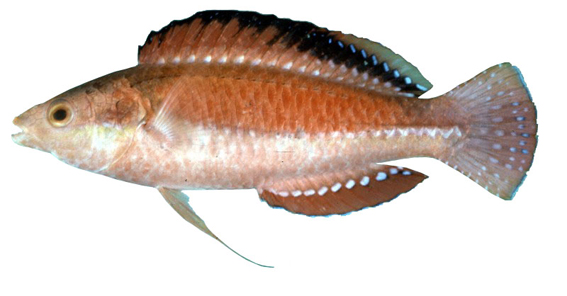fish: (12, 10, 538, 268)
